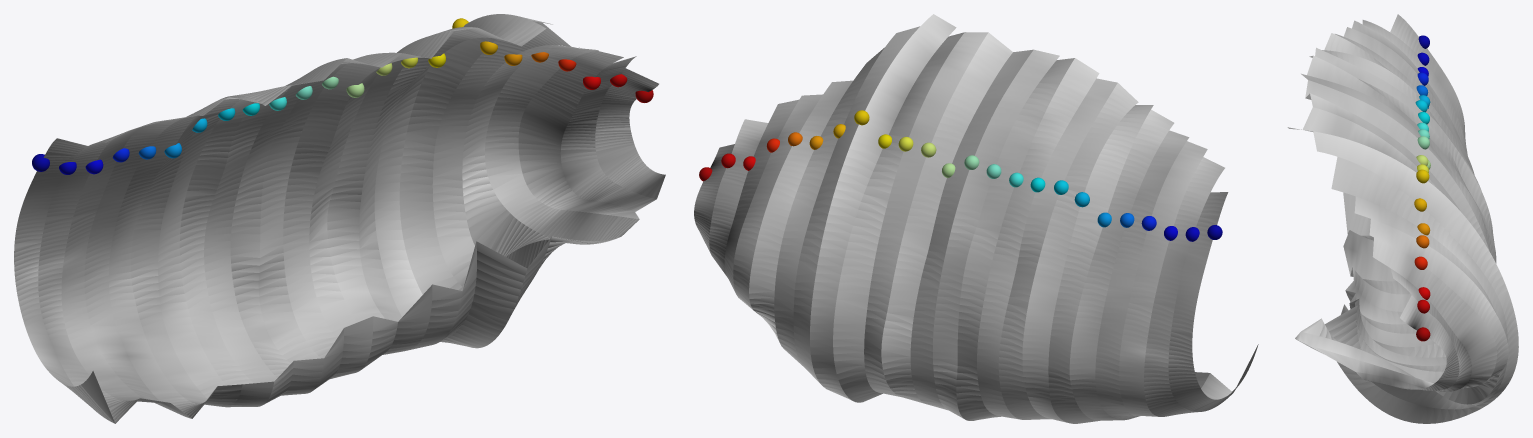
Rendered from M4_Monodelphis_P36_id2_19_50_19_50.gltf.
The picture shows the model from 3 angles, left to right: view 1: azimuth 30°, elevation 25°; view 2: azimuth 150°, elevation 25°; view 3: azimuth 270°, elevation 25°; orthographic projection. The views are drawn at different scales.
Bounding box in the file's own units: 2.36 × 1.4 × 0.9773.
